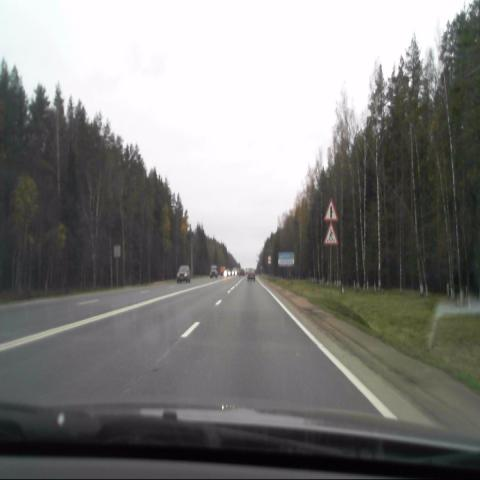1_22: (324, 222, 338, 244)
2_3_2: (324, 198, 338, 222)
